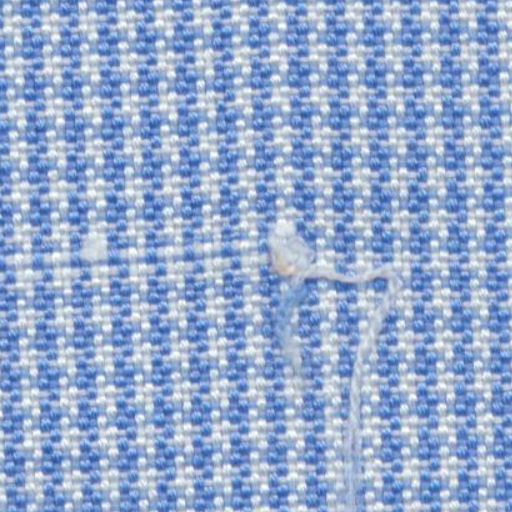DuanSha: (248, 216, 436, 502)
